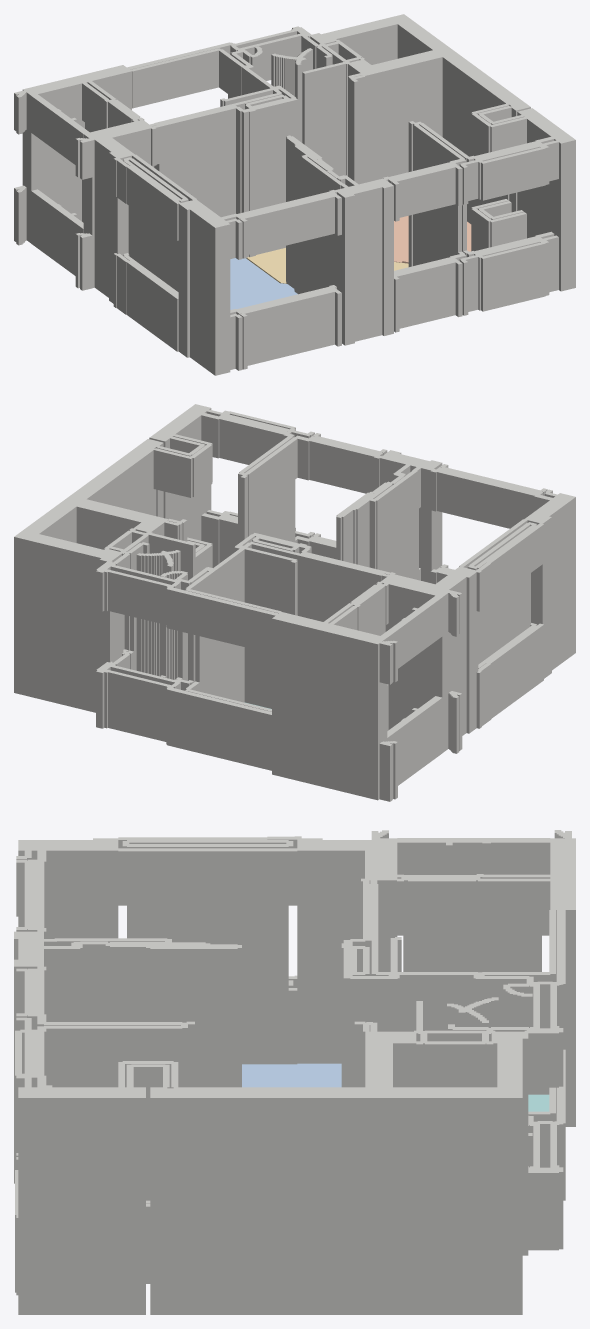
3 renders of one model, top to bottom at view 1: azimuth 30°, elevation 25°; view 2: azimuth 150°, elevation 25°; view 3: azimuth 270°, elevation 25°, orthographic. The views are drawn at different scales.
Visible parts, largest first — view 1: walls, room:bedroom:2, room:living:4, room:kitchen:5; view 2: walls; view 3: walls, room:bedroom:2.
Boxes of the visible parts, x1=… form: walls: x1=14, y1=14, x2=575, y2=375; room:bedroom:2: x1=230, y1=258, x2=297, y2=309; room:living:4: x1=246, y1=248, x2=408, y2=283; room:kitchen:5: x1=394, y1=216, x2=471, y2=263; walls: x1=14, y1=404, x2=575, y2=801; walls: x1=14, y1=830, x2=575, y2=1314; room:bedroom:2: x1=242, y1=1063, x2=341, y2=1087.
Bounding box in the file's own units: 7.42 × 2.8 × 6.58.
